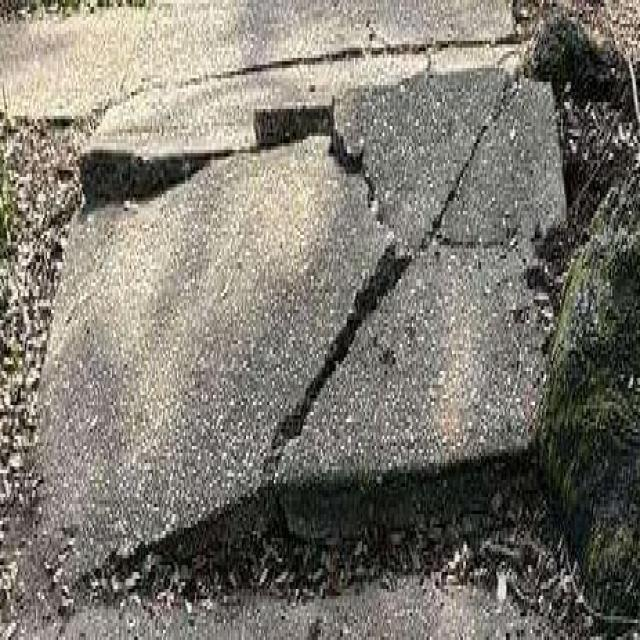bump: (44, 34, 600, 584)
